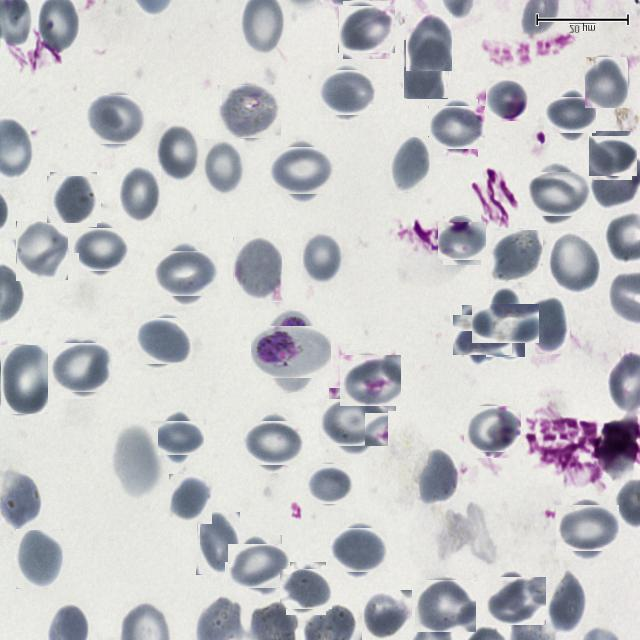red blood cell: (221, 82, 279, 141), (324, 394, 382, 452), (0, 345, 48, 415), (549, 231, 600, 294), (417, 578, 474, 634), (342, 352, 399, 408), (233, 237, 282, 302), (54, 340, 110, 396), (274, 143, 330, 199), (158, 246, 214, 302), (16, 221, 68, 281), (560, 500, 614, 556), (488, 574, 544, 628), (112, 427, 158, 492), (90, 92, 144, 147), (232, 539, 286, 593), (532, 168, 586, 222), (478, 296, 532, 349), (16, 529, 63, 589), (197, 512, 240, 575), (137, 315, 189, 367), (247, 416, 299, 468), (320, 66, 372, 118), (466, 403, 518, 455), (340, 4, 392, 56), (490, 229, 542, 281), (403, 40, 448, 99), (406, 14, 452, 71), (333, 525, 384, 576), (48, 174, 99, 225), (546, 569, 586, 634), (414, 448, 458, 506), (431, 102, 482, 152), (76, 224, 126, 274), (457, 310, 507, 360), (362, 590, 412, 640), (157, 124, 200, 182), (118, 166, 161, 222), (0, 474, 43, 530), (529, 296, 570, 354), (584, 57, 628, 109), (204, 139, 244, 195), (390, 137, 430, 193), (282, 566, 330, 612), (169, 474, 212, 524), (302, 232, 342, 285), (156, 416, 200, 461), (548, 92, 592, 137), (308, 462, 352, 506), (440, 218, 484, 262), (590, 134, 634, 178), (486, 80, 528, 122)
trophozoite: (258, 318, 324, 385)
